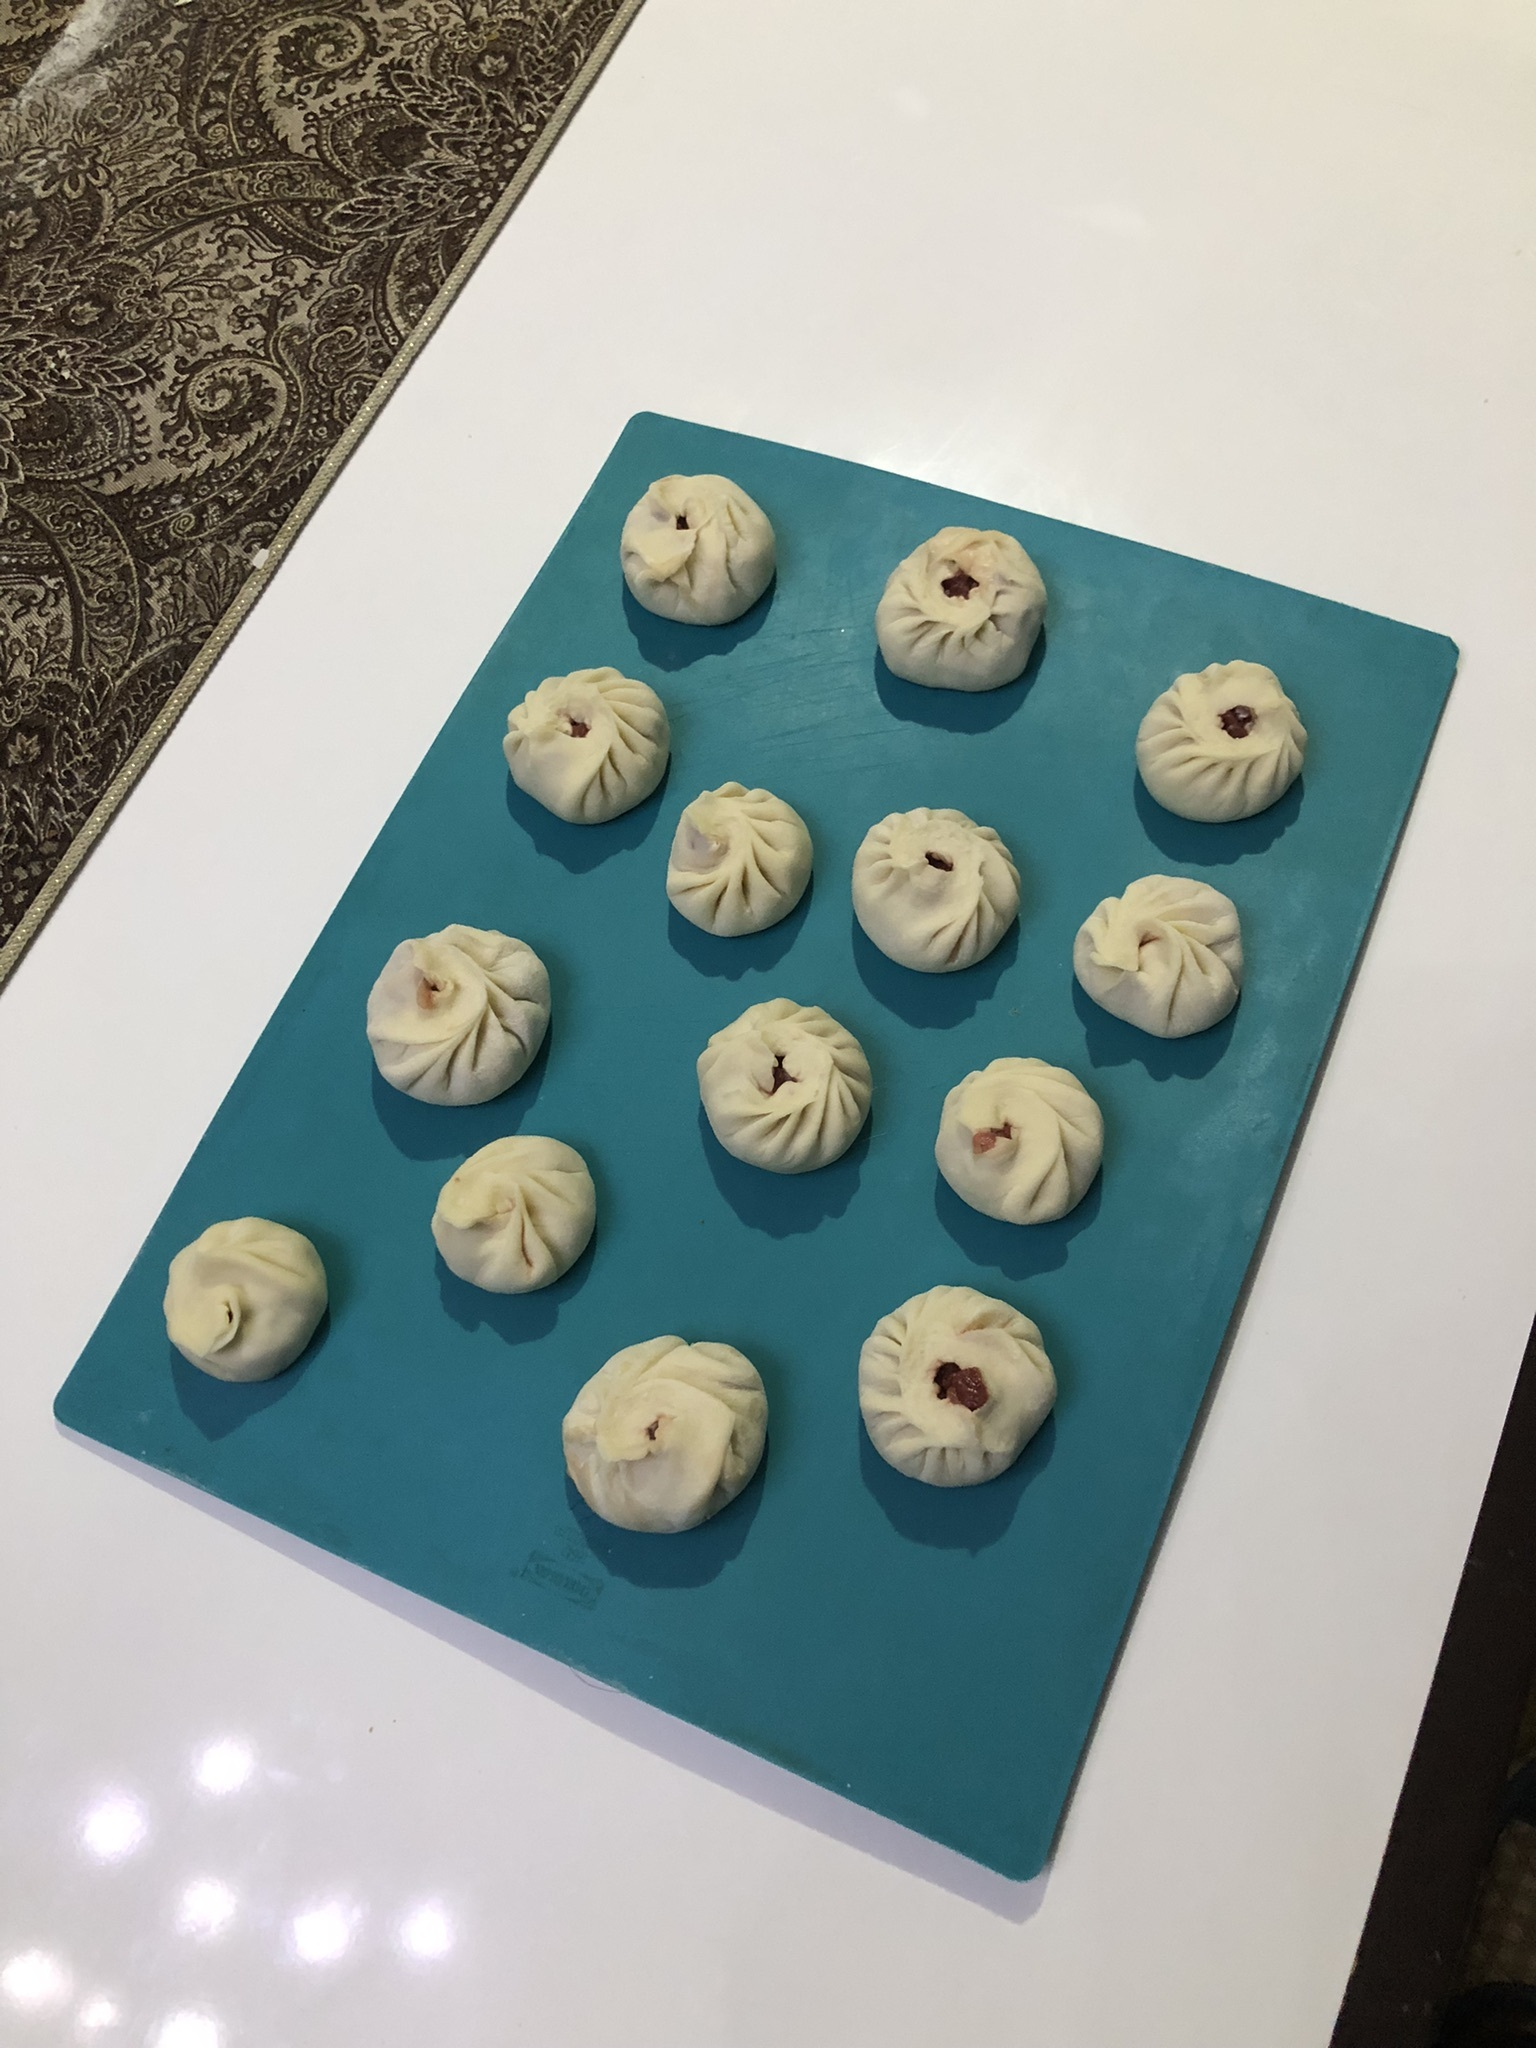buuz: (545, 1322, 786, 1550), (849, 1277, 1070, 1496), (352, 916, 565, 1118), (925, 1045, 1120, 1238), (1062, 864, 1262, 1051), (841, 798, 1037, 987), (865, 518, 1065, 700), (691, 990, 878, 1184), (1125, 647, 1320, 829), (155, 1206, 340, 1392), (487, 658, 678, 830), (423, 1126, 603, 1306), (615, 464, 786, 635), (657, 774, 826, 945)
